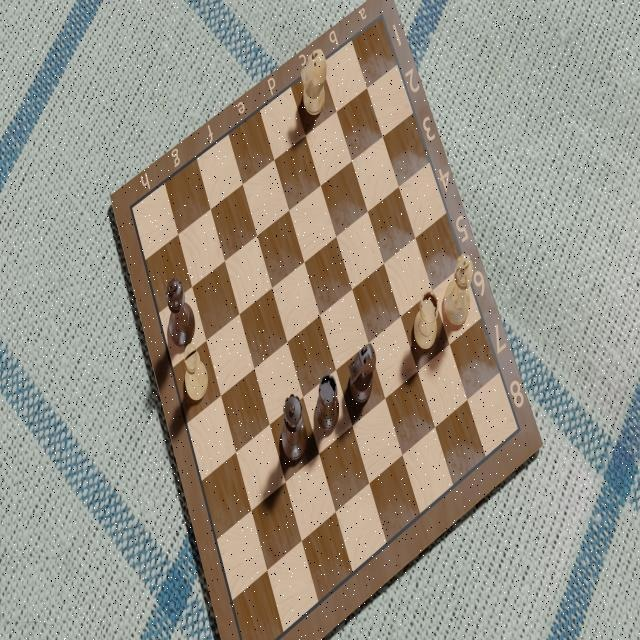black-king: (165, 275, 199, 349)
black-knight: (346, 342, 377, 409)
black-queen: (280, 392, 312, 468)
black-rook: (313, 373, 341, 435)
white-bishop: (184, 342, 212, 401)
white-king: (441, 250, 474, 330)
white-knight: (298, 45, 330, 123)
white-rook: (412, 288, 440, 355)
